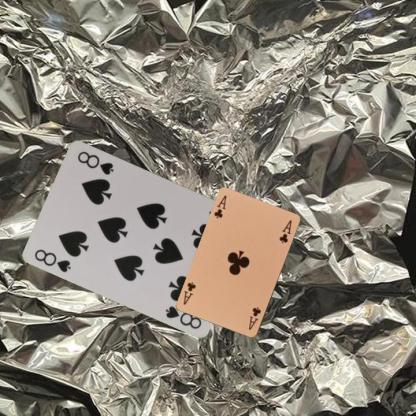8s: (32, 246, 73, 274)
Ac: (211, 193, 228, 220), (246, 304, 262, 332)
